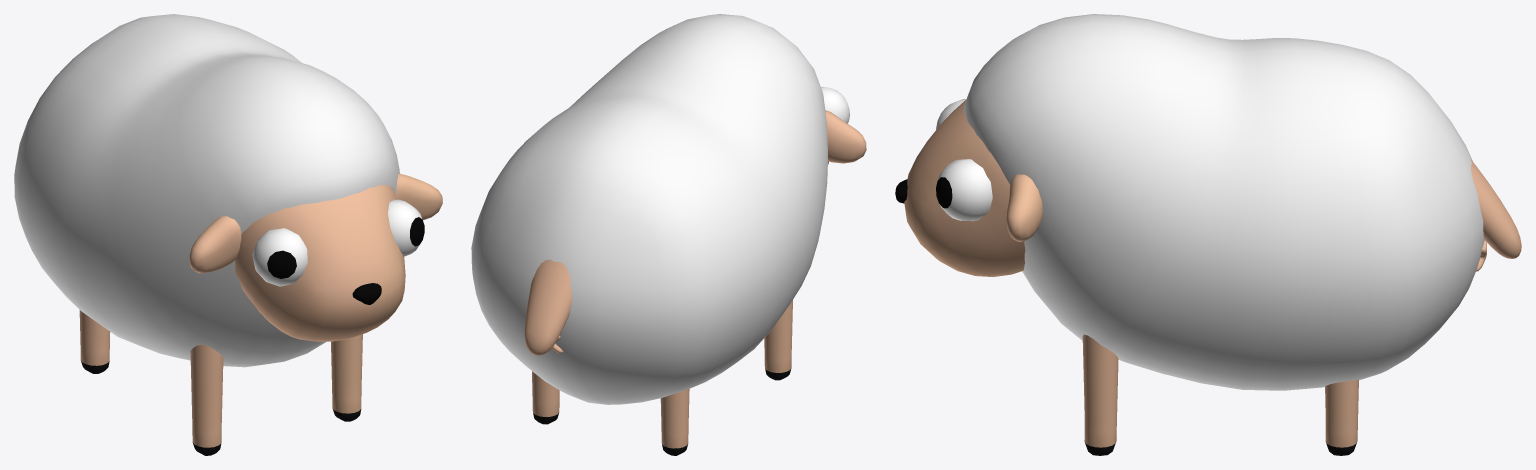
The model's file is Sheep.fbx.
The picture shows the model from 3 angles, left to right: view 1: azimuth 30°, elevation 25°; view 2: azimuth 150°, elevation 25°; view 3: azimuth 270°, elevation 25°; orthographic projection. The views are drawn at different scales.
Visible parts, largest first — view 1: Sheep1; view 2: Sheep1; view 3: Sheep1.
Part boxes in pixels (<box>): Sheep1: <box>14,14,442,455</box>; Sheep1: <box>471,14,866,455</box>; Sheep1: <box>895,14,1521,455</box>.
Size of the model in its own units: 165 by 199 by 287.
